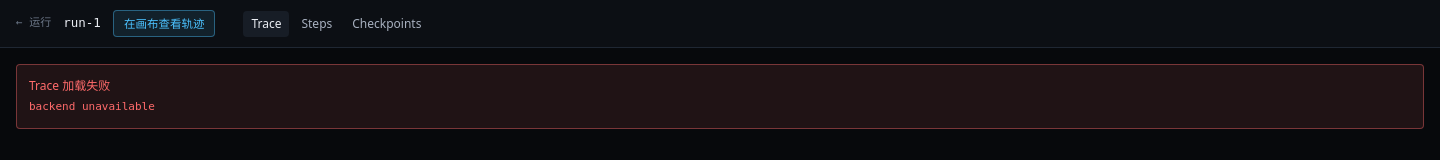
Test: Studio query errors › shows errors for run trace and steps tabs
This screenshot has width=1440, height=160.
Expected: the text "Trace 加载失败" is shown, [29,77,110,94]
Click the button "Steps": (317, 24) [294,11,340,37]
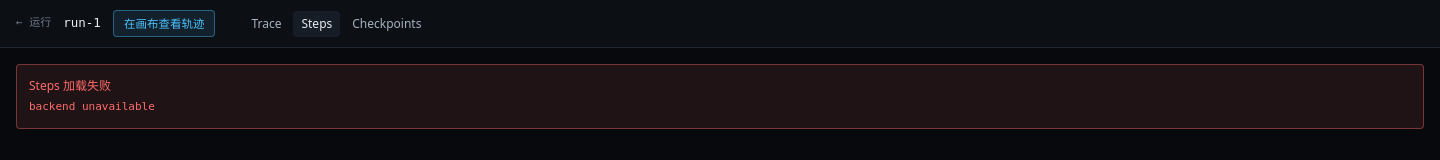
Expected: the text "Steps 加载失败" is shown, [29,77,111,94]
